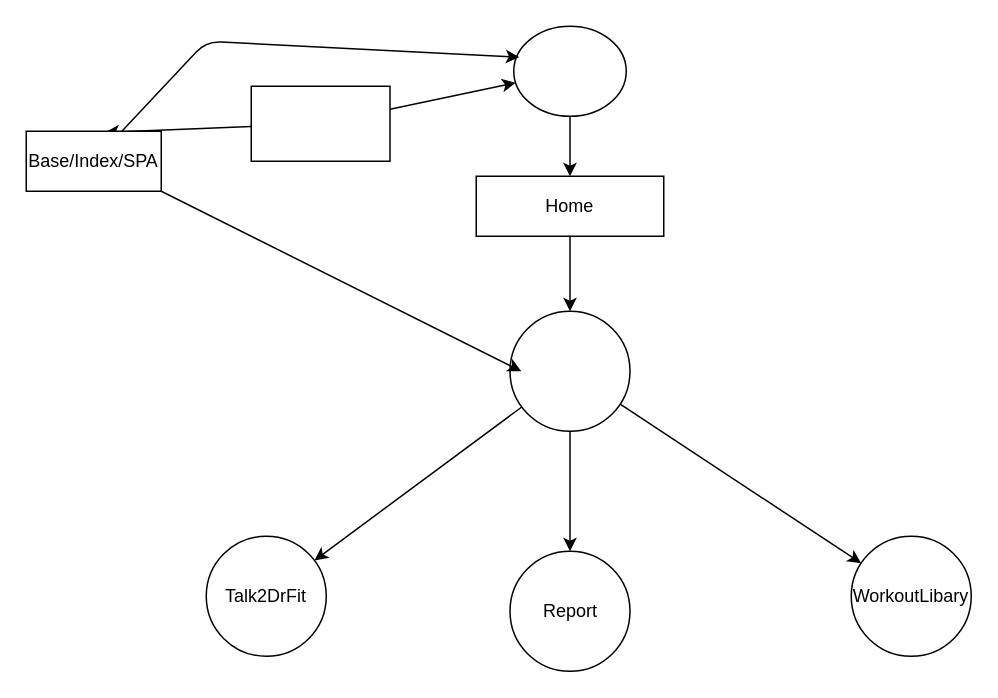
The diagram is 998 pixels wide and 698 high, and some of its shapes have lost their labels. The shapes that lost their labels are listed below. From the top down, each one's centre as x and y in pixels, then its label:
point 569,70: Login
point 320,123: Registeration
point 569,370: Account
